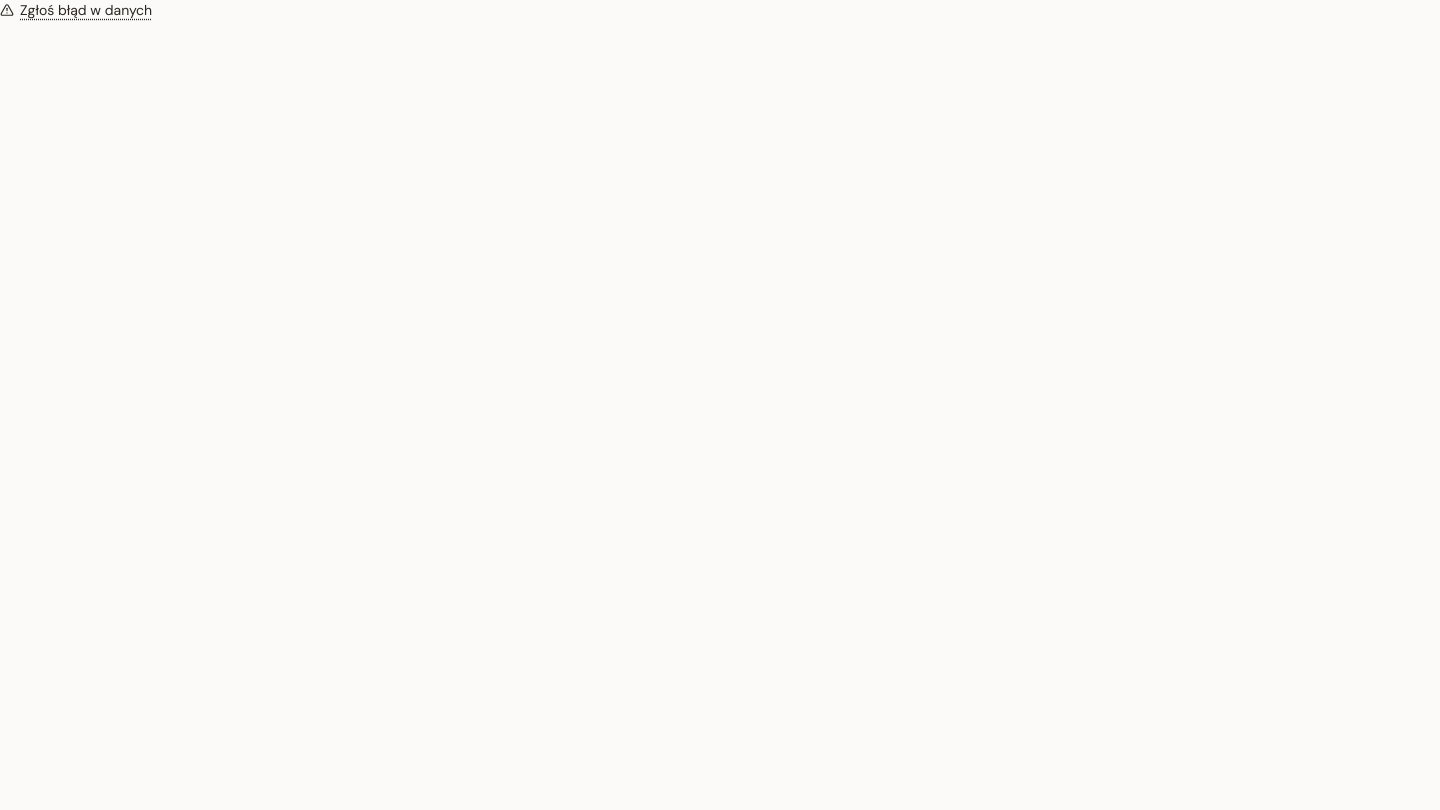
Test case: AN-12-079 — „Zgłoś błąd w danych”: komunikat przy polu + fokus › oba pola błędne -> fokus na pierwszym (opis), komunikaty przy obu
Click the button "Zgłoś błąd w danych".
click(76, 10)  # box [0,0,152,20]
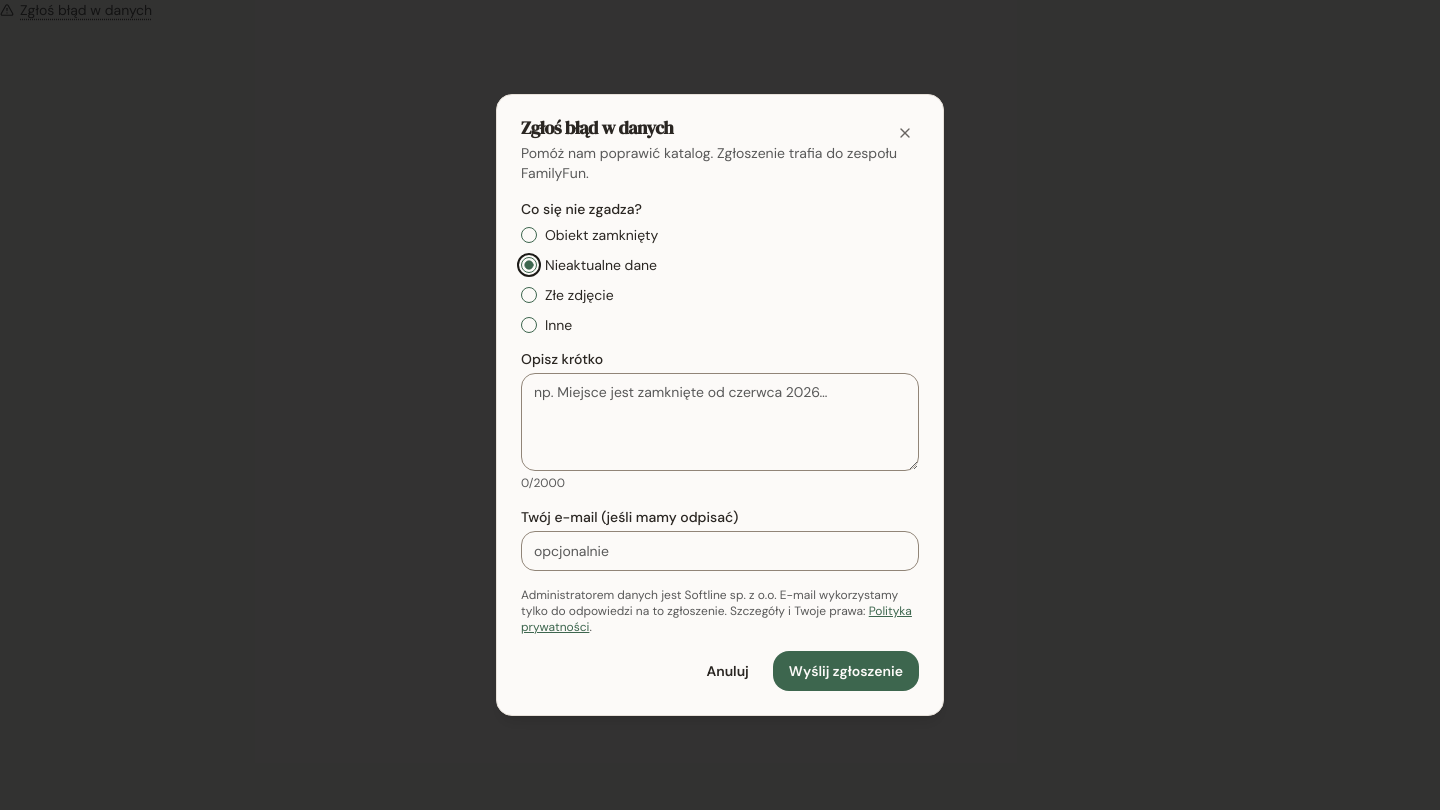
Type "abc" into the field labelled "Twój e-mail (jeśli mamy odpisać)".
click(720, 551); type("abc")  # box [521,531,919,571]
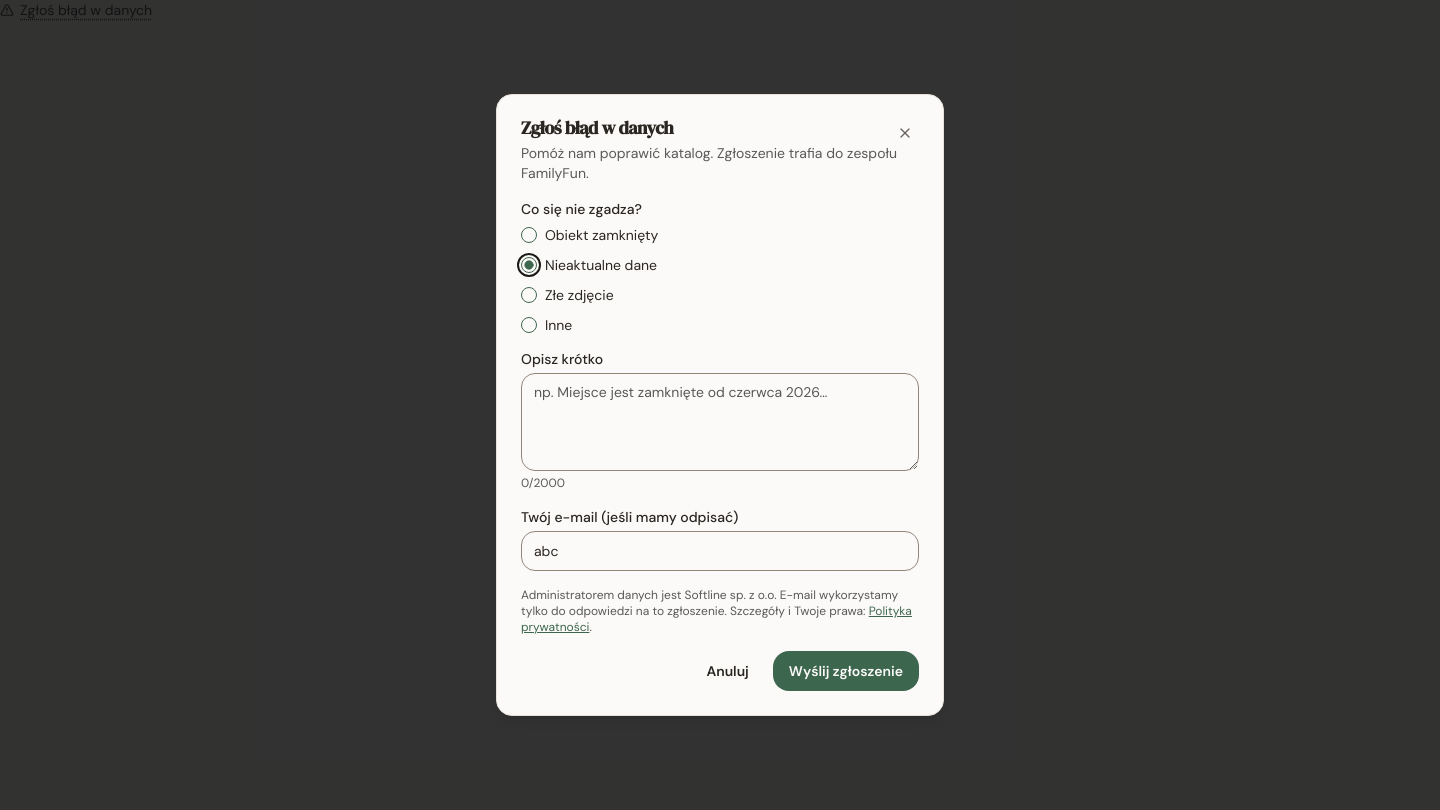
Click the button "Wyślij zgłoszenie".
click(846, 671)  # box [773,651,919,691]
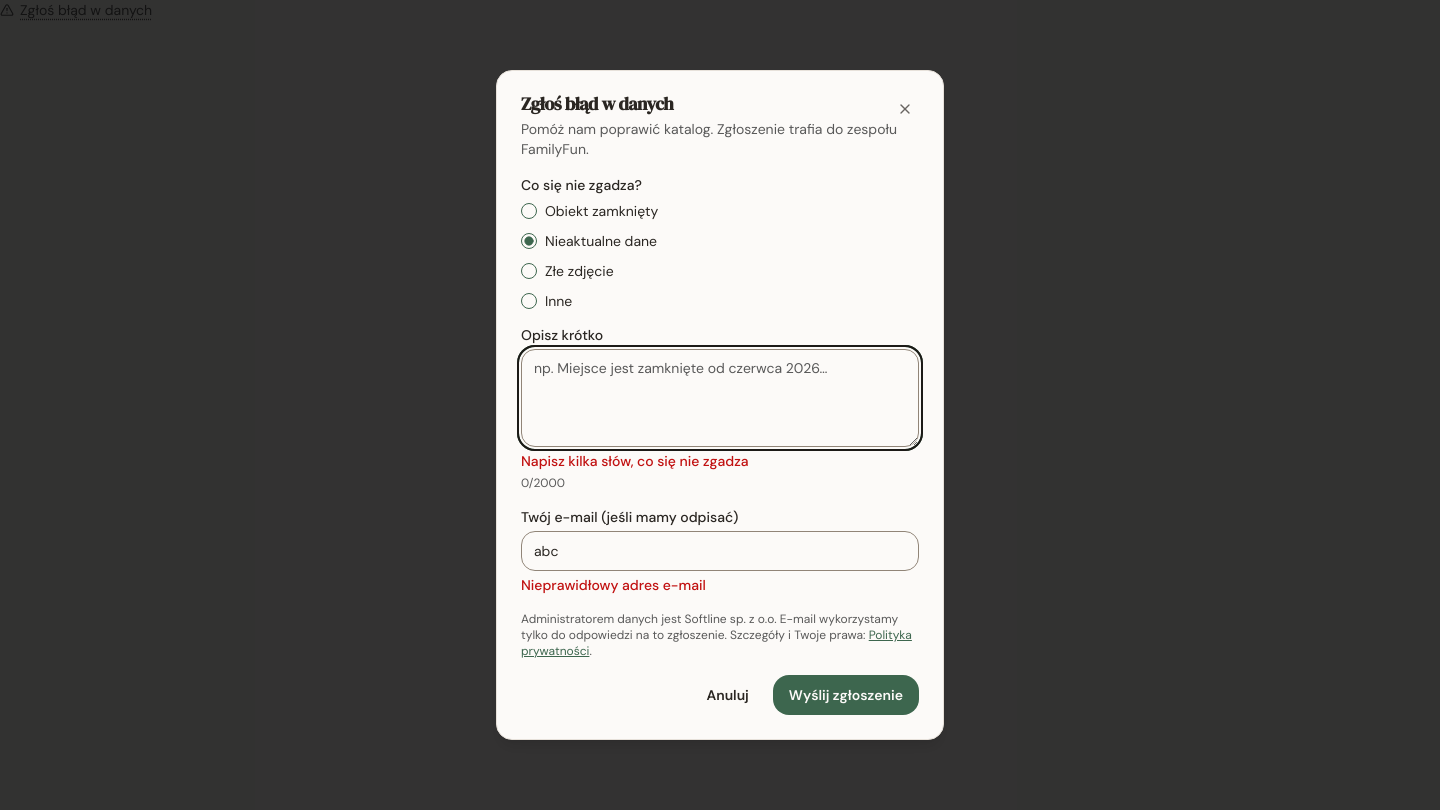
Check: the text box labelled "Opisz krótko" is marked as invalid, box [521,349,919,447]
